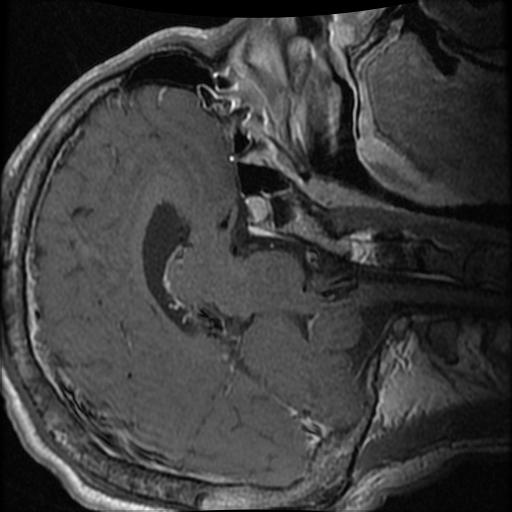pituitary tumour: (246, 196, 265, 223)
